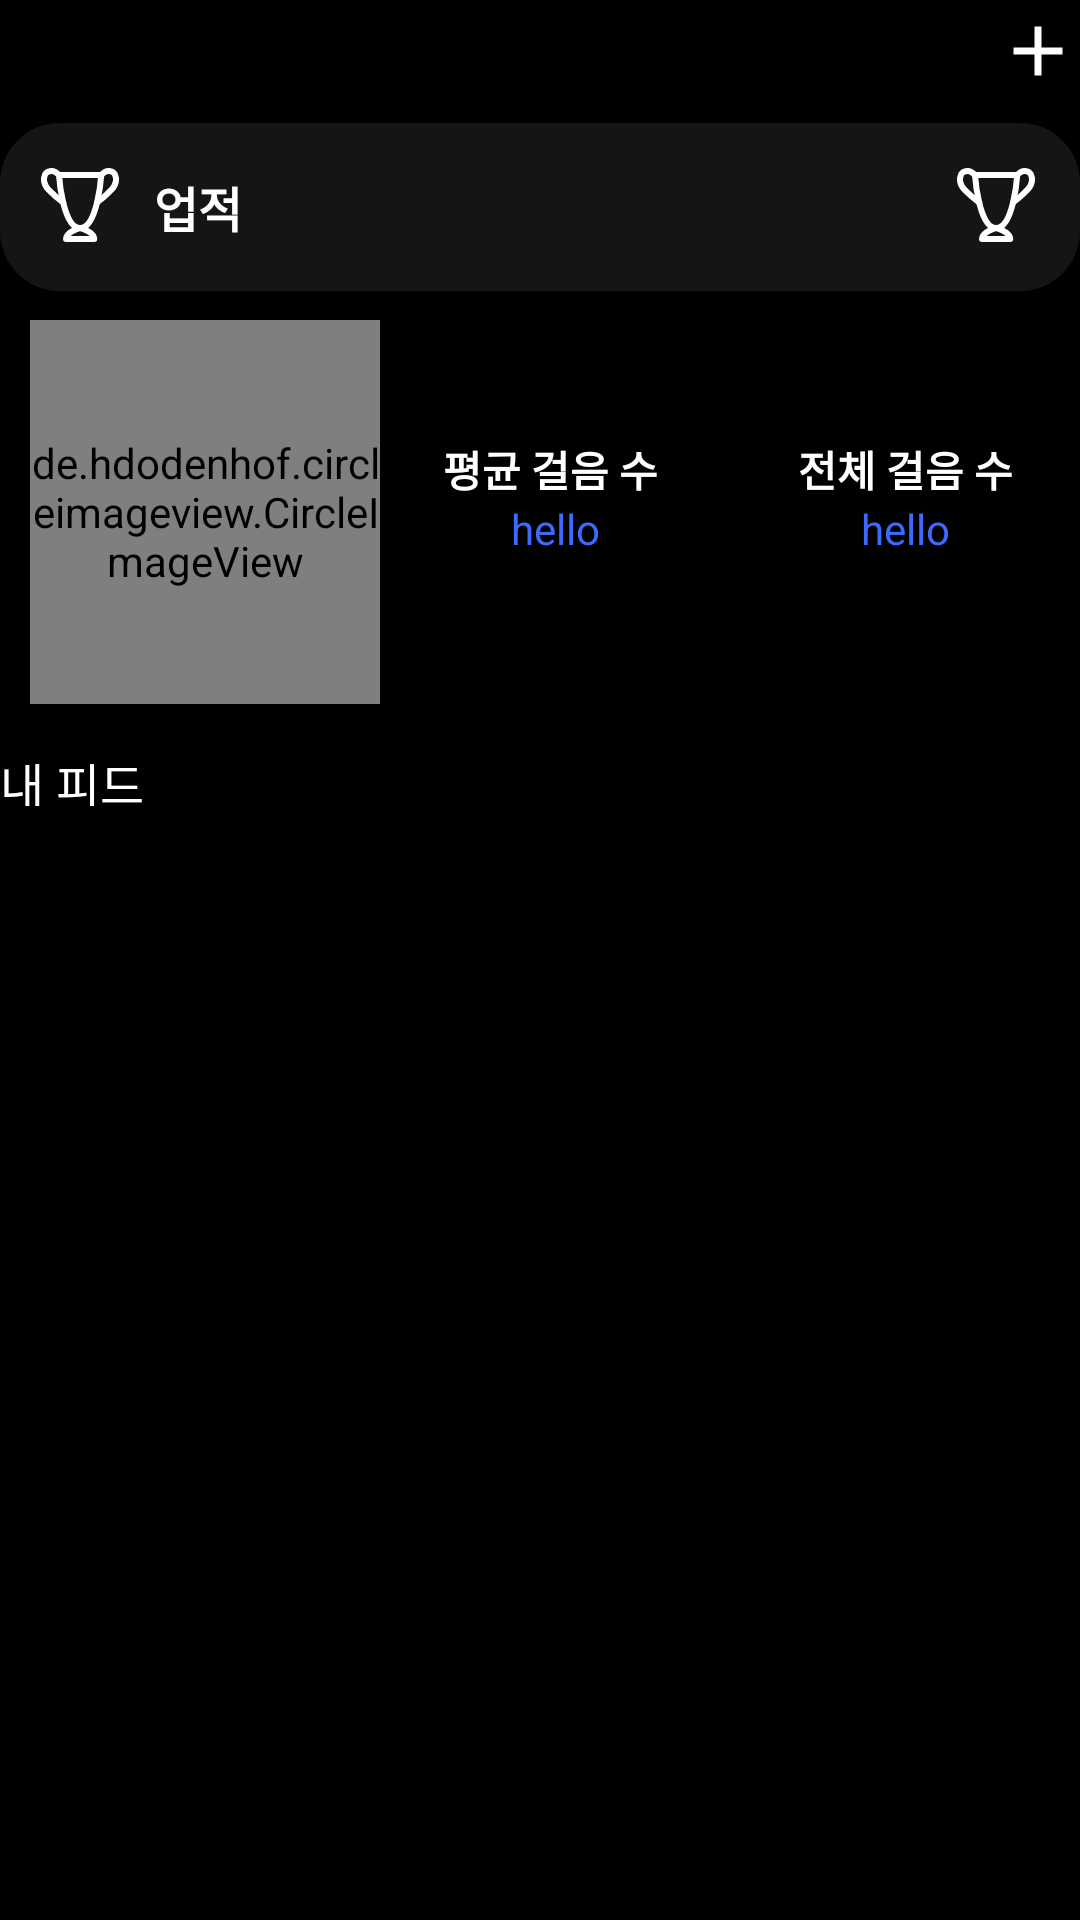

Icon bounding boxes for this 1080px x 1920px phone screenshot, format bbox(x1, y1, x2, y2):
add: bbox(1013, 26, 1063, 76)
iconoir trophy: bbox(41, 168, 119, 242), bbox(957, 168, 1035, 242)
